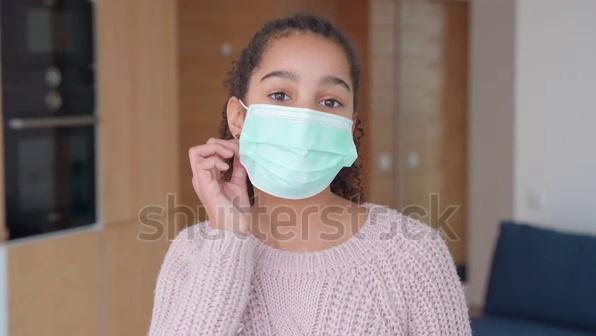Mask: (227, 103, 364, 205)
